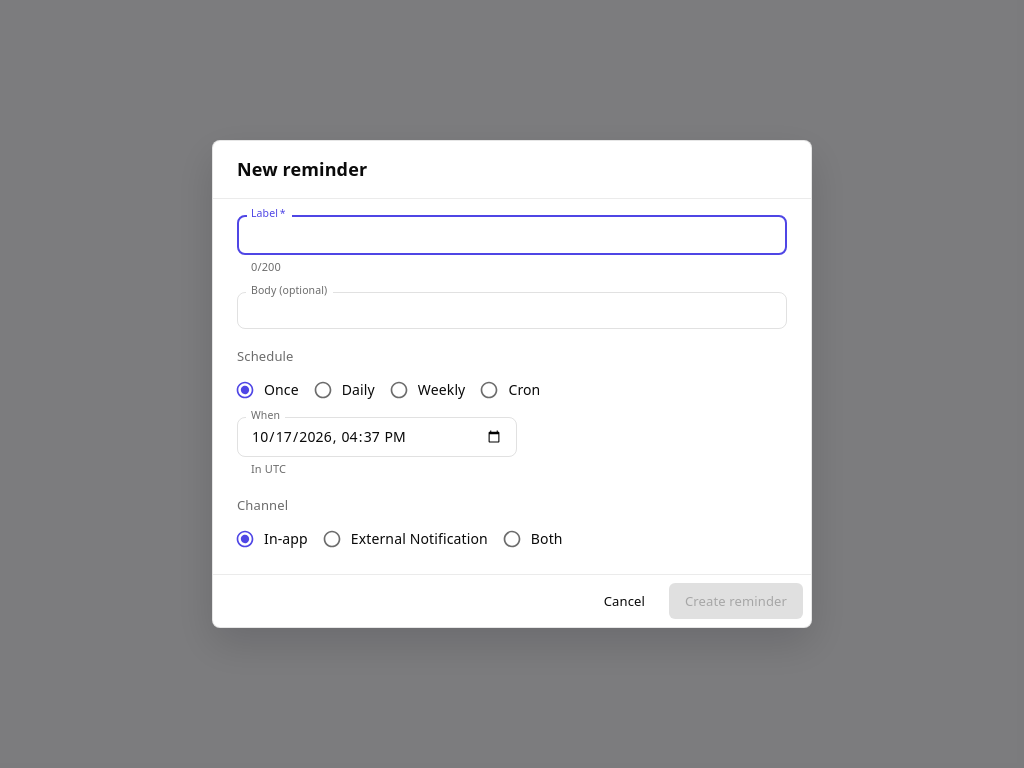
Scenario: NewReminderModal › buildSchedule daily branch — invalid time string shows schedule error
This screenshot has width=1024, height=768.
Type "Bad daily" into the field labelled "Label *" at (512, 235), box [237, 215, 787, 255]
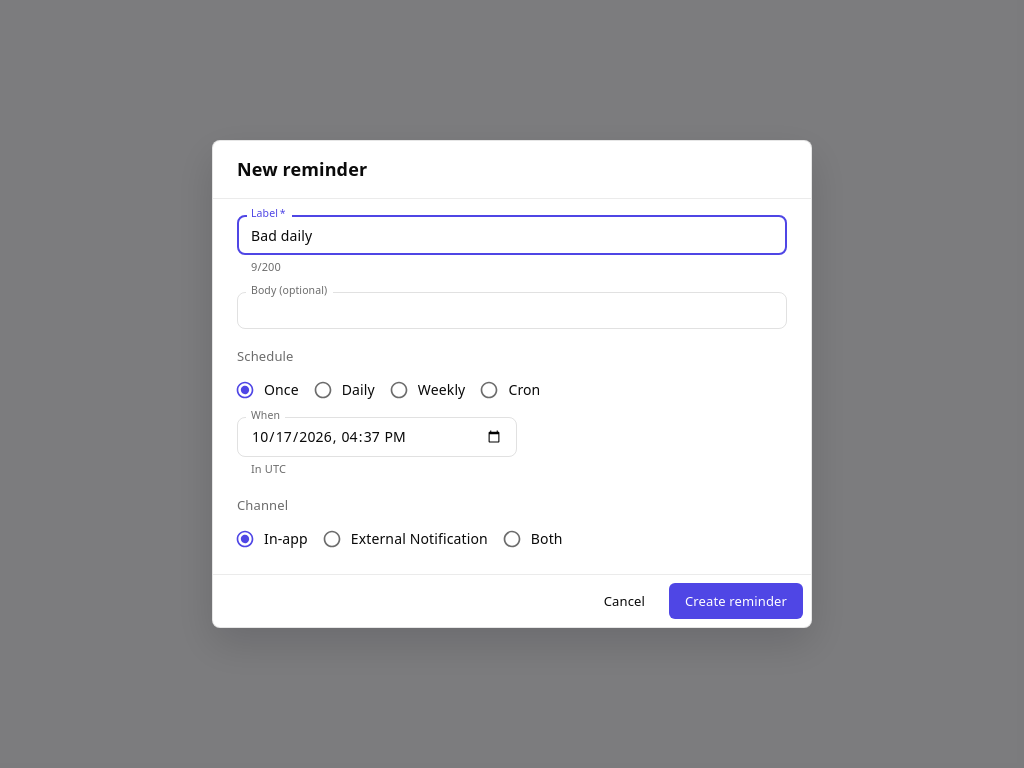
Click the radio button labelled "Daily" at (344, 390), box [313, 380, 375, 400]
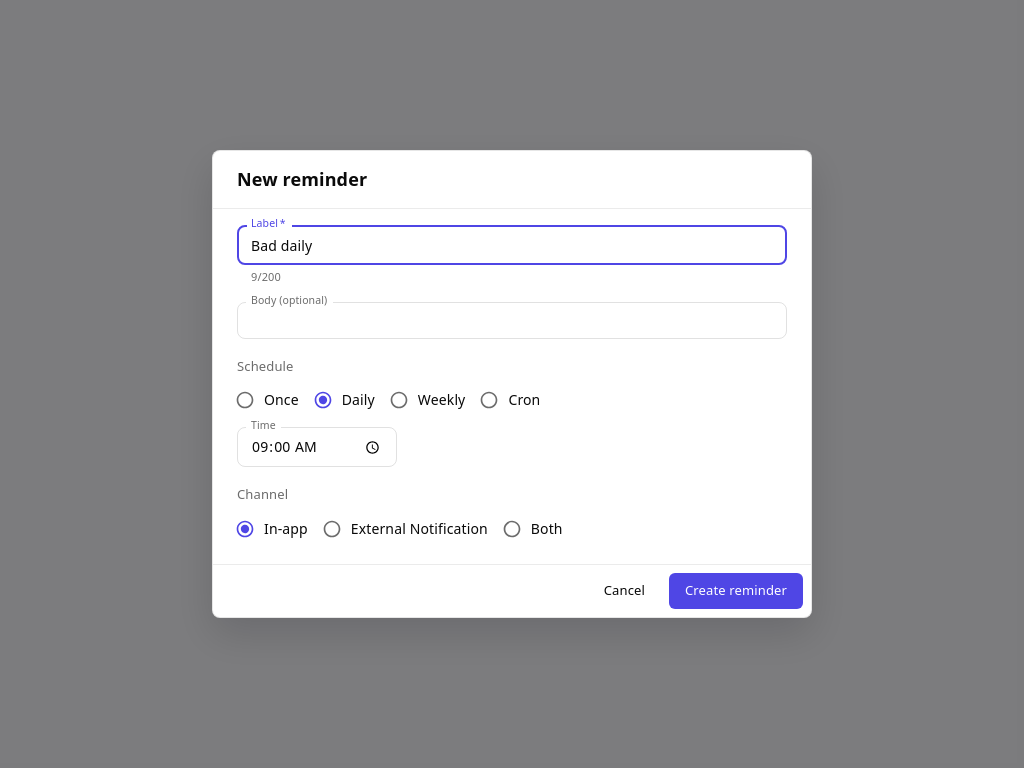
Replace the text in the time field labelled "Time" with "notavalidtime" at (317, 447), box [237, 427, 397, 467]
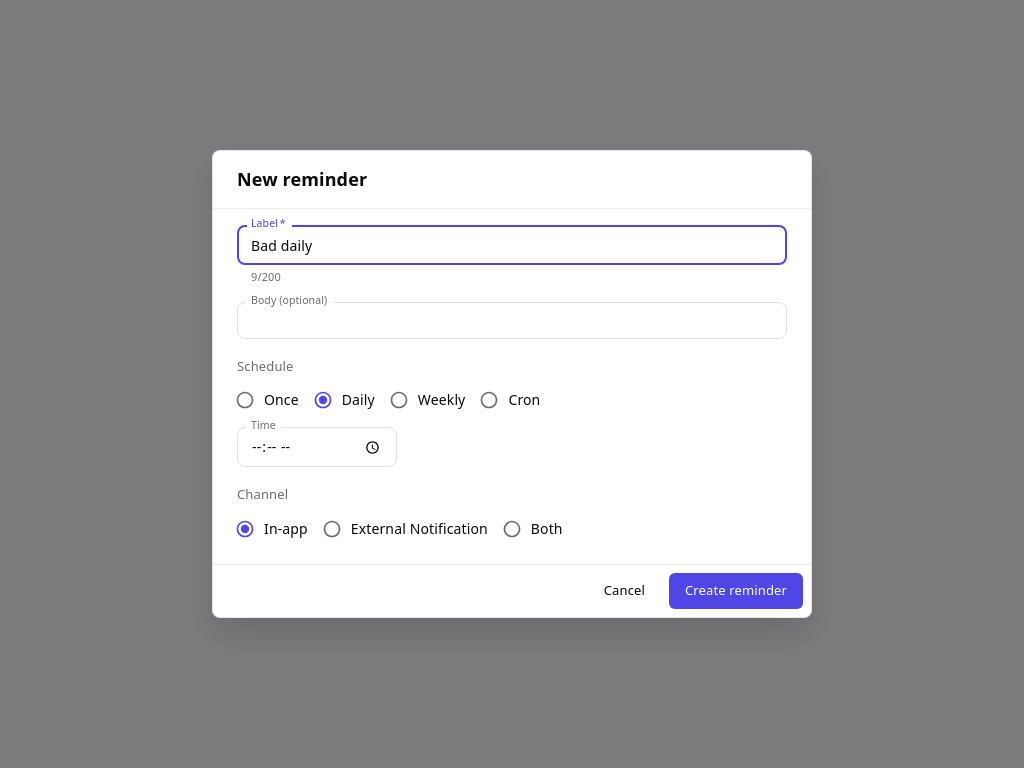
Click the button "Create reminder" at (736, 591), box [669, 573, 803, 609]
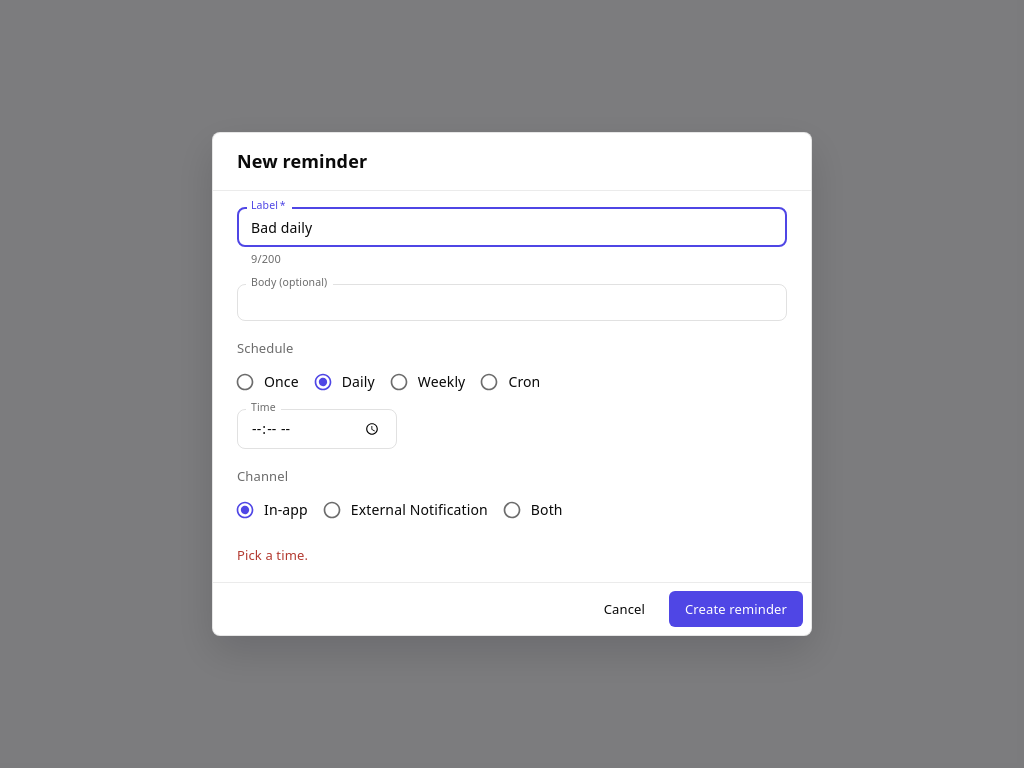
Check: the message reads "Pick a time.", box [237, 546, 308, 564]
